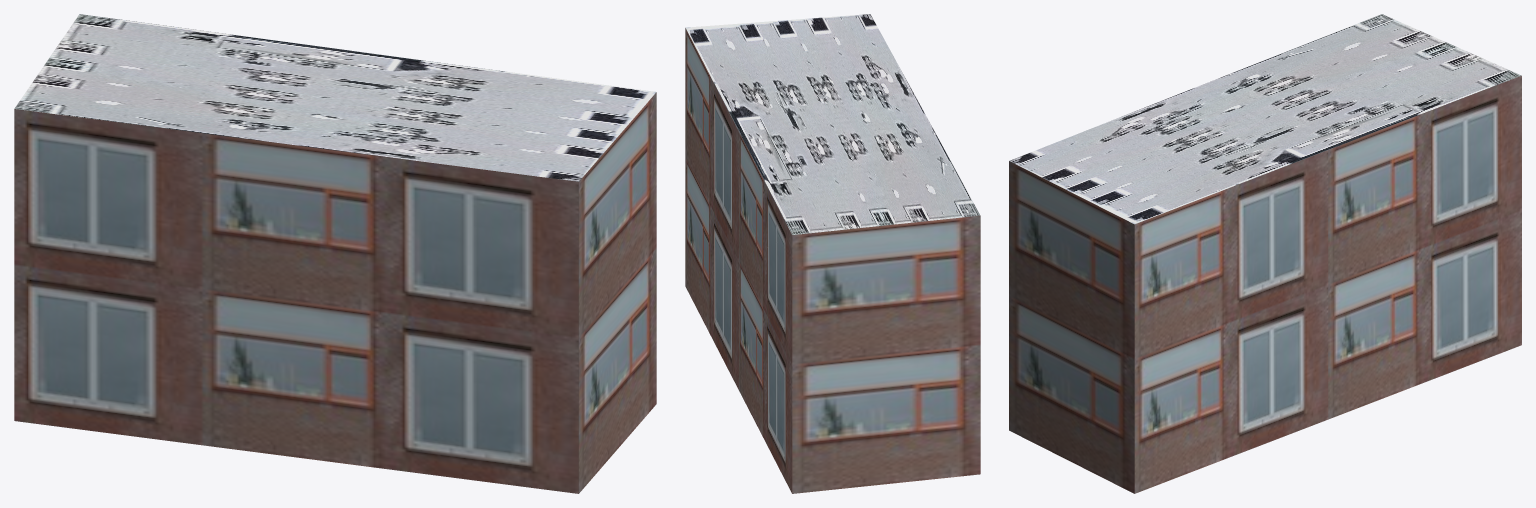
File: ResTex__1469.fbx
3 views of the same model, side by side, from view 1: azimuth 30°, elevation 25°; view 2: azimuth 150°, elevation 25°; view 3: azimuth 270°, elevation 25° (orthographic). The views are drawn at different scales.
Parts seen in each view (by area): view 1: CityEngineMaterial_19_m, CityEngineMaterial_8_m; view 2: CityEngineMaterial_19_m, CityEngineMaterial_8_m; view 3: CityEngineMaterial_19_m, CityEngineMaterial_8_m.
Boxes of the visible parts, box(x1,y1,x2,y2) form: CityEngineMaterial_19_m: box(14, 92, 656, 493); CityEngineMaterial_8_m: box(14, 14, 656, 181); CityEngineMaterial_19_m: box(685, 28, 980, 493); CityEngineMaterial_8_m: box(686, 14, 980, 234); CityEngineMaterial_19_m: box(1009, 75, 1521, 493); CityEngineMaterial_8_m: box(1009, 14, 1521, 224).
Size of the model in its own units: 10.04 by 6 by 10.34.
Materials: 2 (2 with a texture image).
